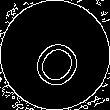O_NE: (22, 22, 88, 88)
